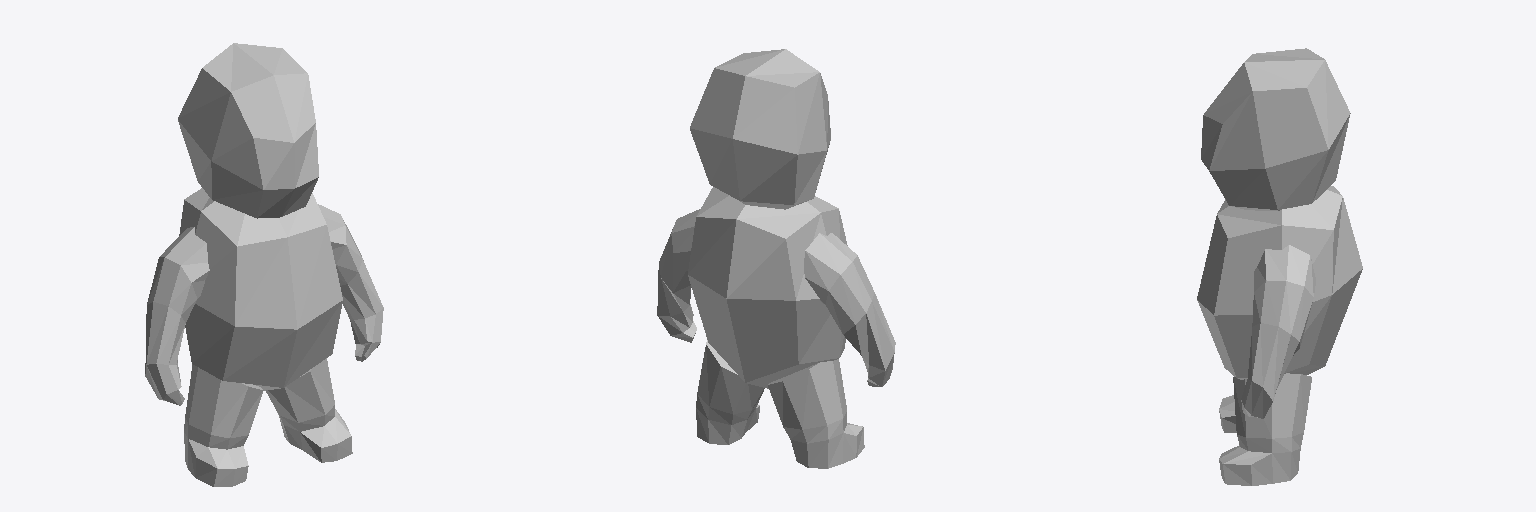
The model's file is char_05.obj.
The picture shows the model from 3 angles: view 1: azimuth 30°, elevation 25°; view 2: azimuth 150°, elevation 25°; view 3: azimuth 270°, elevation 25°; orthographic projection.
Visible parts, largest first — view 1: Group2119, Group44217, Group14135, Group20885, Group10391, Group10385; view 2: Group2119, Group44217, Group20885, Group14135, Group10391; view 3: Group44217, Group2119, Group14135, Group20885, Group10391, Group10388.
Part boxes in pixels (x1,y1,x2,y2): Group2119: (179, 188, 342, 390); Group44217: (178, 43, 318, 218); Group14135: (145, 204, 383, 405); Group20885: (184, 358, 334, 467); Group10391: (188, 409, 350, 476); Group10385: (214, 436, 352, 486); Group2119: (688, 187, 847, 388); Group44217: (690, 49, 830, 209); Group20885: (696, 340, 846, 468); Group14135: (657, 209, 895, 386); Group10391: (747, 405, 862, 463); Group44217: (1201, 48, 1350, 210); Group2119: (1197, 186, 1362, 379); Group14135: (1241, 245, 1315, 418); Group20885: (1233, 373, 1311, 483); Group10391: (1219, 395, 1272, 485); Group10388: (1223, 464, 1251, 485).
Size of the model in its own units: 0.6177 by 0.9822 by 0.377.